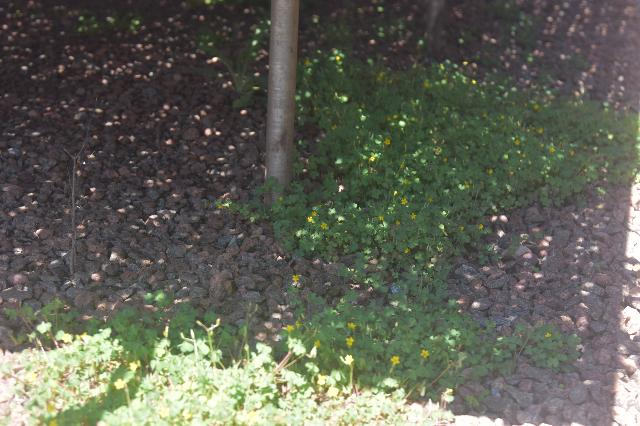MalezaMontesDelPlata: (316, 97, 634, 199), (210, 180, 481, 279), (6, 300, 198, 426), (200, 307, 390, 422), (384, 287, 583, 381)
